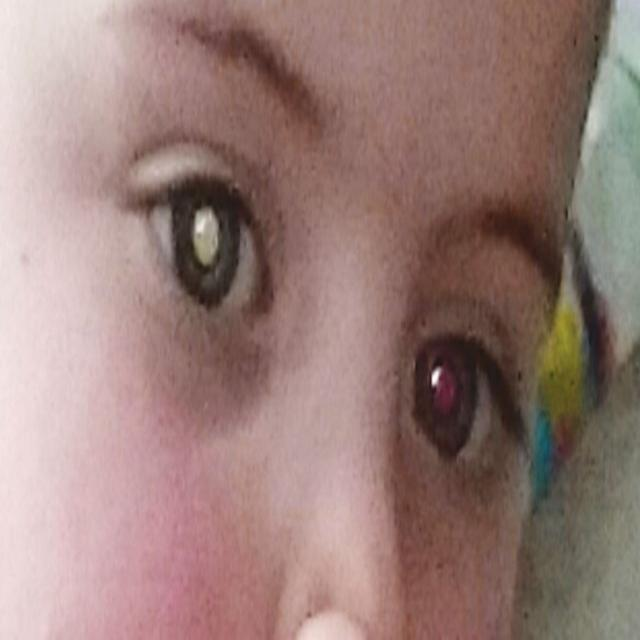reflexo-alterado: (168, 174, 251, 318)
reflexo-normal: (412, 327, 506, 474)
